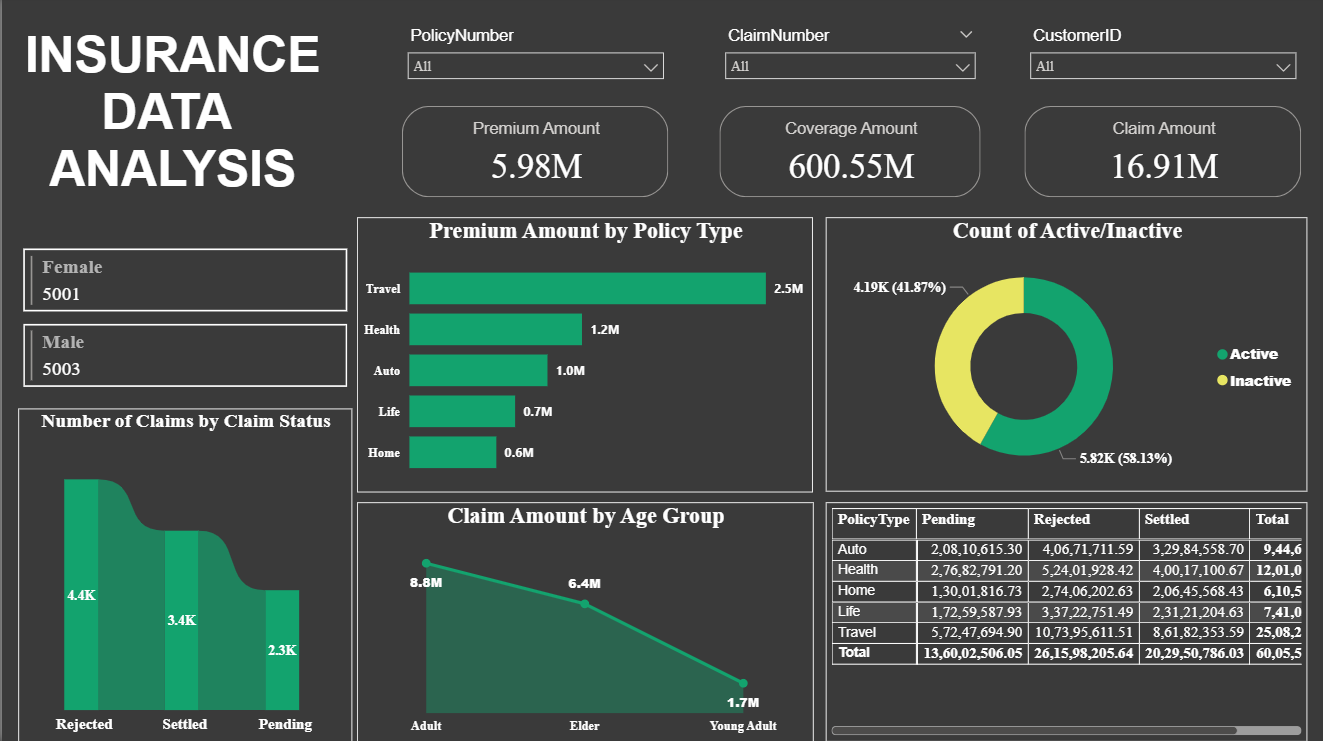

Layout of this report page (visuals, bound fields, positions):
{"tool":"powerbi","page":{"name":"Overview","canvas":[1280,720],"ordinal":0},"visuals":[{"type":"slicer","fields":{"Values":["InsuranceData.PolicyNumber"]},"box":[381.5,24.7,267.6,76.8],"z":0},{"type":"slicer","fields":{"Values":["InsuranceData.ClaimNumber"]},"box":[687.5,24.7,262.1,76.8],"z":1000},{"type":"slicer","fields":{"Values":["InsuranceData.CustomerID"]},"box":[982.5,24.7,277.2,76.8],"z":2000},{"type":"textbox","box":[15.7,24.1,298,214.7],"z":3000},{"type":"cardVisual","fields":{"Data":["Sum(InsuranceData.PremiumAmount)"]},"box":[381.5,101.5,267.6,98.8],"z":4000},{"type":"cardVisual","fields":{"Data":["Sum(InsuranceData.CoverageAmount)"]},"box":[687.5,101.5,262.1,98.8],"z":5000},{"type":"cardVisual","fields":{"Data":["Sum(InsuranceData.ClaimAmount)"]},"box":[982.5,101.5,277.2,98.8],"z":6000},{"type":"multiRowCard","fields":{"Values":["InsuranceData.Gender","CountNonNull(InsuranceData.Gender)"]},"box":[15.1,238.8,322.5,159.2],"z":7000},{"type":"ribbonChart","title":"Number of Claims by Claim Status ","fields":{"Category":["InsuranceData.ClaimStatus"],"Y":["CountNonNull(InsuranceData.ClaimStatus)"]},"box":[15.1,397.9,322.5,322.5],"z":8000},{"type":"barChart","title":"Premium Amount by Policy Type","fields":{"Category":["InsuranceData.PolicyType"],"Y":["Sum(InsuranceData.PremiumAmount)"]},"box":[342.6,213.5,440.4,265.4],"z":9000},{"type":"lineChart","title":"Claim Amount by Age Group","fields":{"Category":["InsuranceData.Age Group"],"Y":["Sum(InsuranceData.ClaimAmount)"]},"box":[343.1,488.5,440.5,231.9],"z":10000},{"type":"donutChart","title":"Count of Active/Inactive ","fields":{"Category":["InsuranceData.Active/Inactive"],"Y":["CountNonNull(InsuranceData.Active/Inactive)"]},"box":[794.5,214.1,465.2,264.8],"z":11000},{"type":"pivotTable","fields":{"Values":["Sum(InsuranceData.CoverageAmount)"],"Rows":["InsuranceData.PolicyType"],"Columns":["InsuranceData.ClaimStatus"]},"box":[795,489,465,231],"z":12000}]}

Visuals, with their boxes in screenshot pixels (x1, y1, x2, y2), scaled from the page's 1280x720 canvas onto the 1323x741 screenshot:
slicer - InsuranceData.PolicyNumber: [394, 25, 671, 104]
slicer - InsuranceData.ClaimNumber: [711, 25, 982, 104]
slicer - InsuranceData.CustomerID: [1016, 25, 1302, 104]
textbox: [16, 25, 324, 246]
cardVisual - Sum(InsuranceData.PremiumAmount): [394, 104, 671, 206]
cardVisual - Sum(InsuranceData.CoverageAmount): [711, 104, 982, 206]
cardVisual - Sum(InsuranceData.ClaimAmount): [1016, 104, 1302, 206]
multiRowCard - InsuranceData.Gender x CountNonNull(InsuranceData.Gender): [16, 246, 349, 410]
"Number of Claims by Claim Status " ribbonChart: [16, 410, 349, 740]
"Premium Amount by Policy Type" barChart: [354, 220, 809, 493]
"Claim Amount by Age Group" lineChart: [355, 503, 810, 740]
"Count of Active/Inactive " donutChart: [821, 220, 1302, 493]
pivotTable - Sum(InsuranceData.CoverageAmount) x InsuranceData.PolicyType: [822, 503, 1302, 740]
